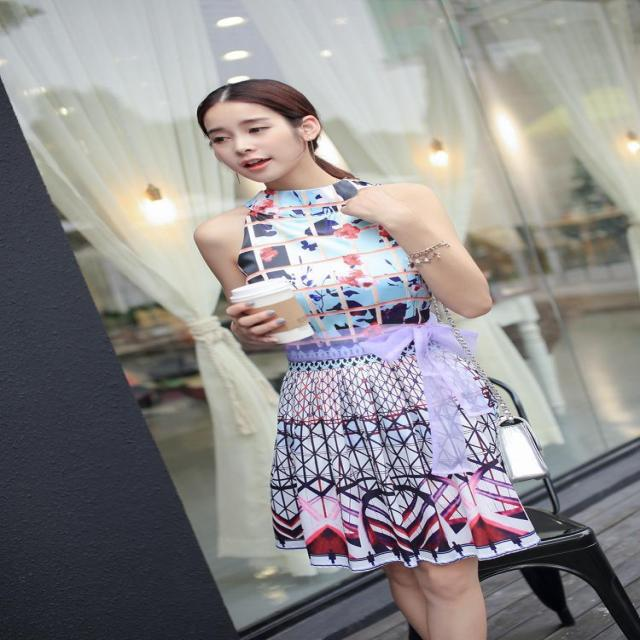vest dress: (238, 179, 538, 568)
